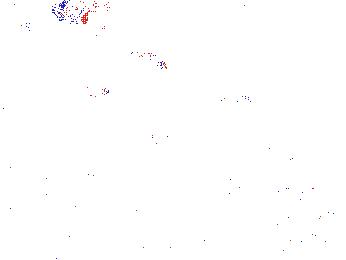X-ray fish: (50, 1, 127, 34)
glassfish: (76, 125, 183, 189)
red belly glassfish: (101, 44, 155, 63), (63, 84, 113, 101), (216, 90, 249, 108), (155, 54, 175, 75)
redtail glassfish: (1, 12, 39, 38)
